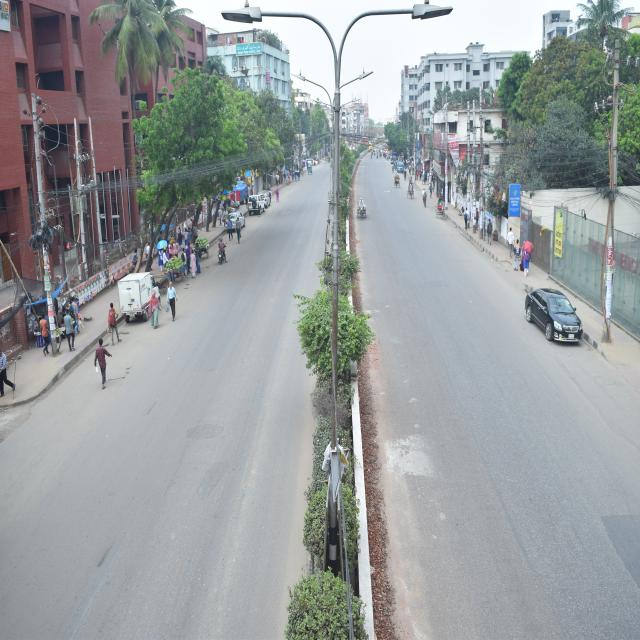car: (524, 288, 584, 349), (225, 209, 247, 239), (246, 191, 268, 216)
pickup-van: (116, 270, 164, 332)
